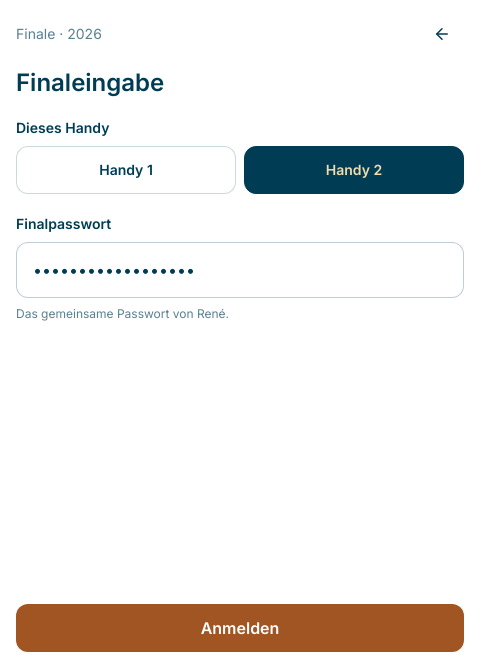
Test case: mobile final result flow › uses class and participant rows, confirms identity, and returns to the same class after saving
Earlier steps of the test are not shown.
Click the button "Anmelden" at (240, 628), box [16,604,464,652]
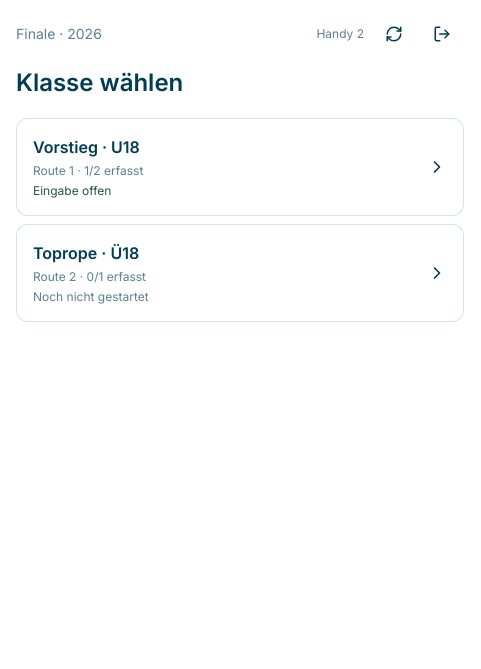
Expected: the heading "Klasse wählen" is shown, [16,68,183,97]
Click the button "Vorstieg · U18 Route 1 · 1/2 erfasst Eingabe offen" at (86, 147), box [16,118,464,216]
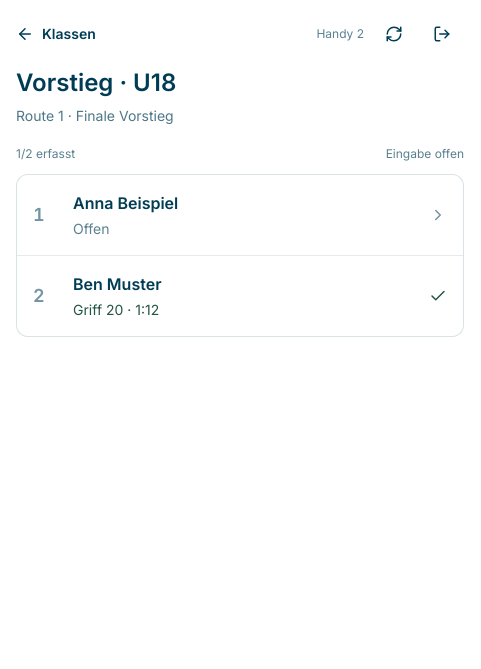
Click the button with aria-label "1. Anna Beispiel" at (126, 203), box [17,175,463,256]
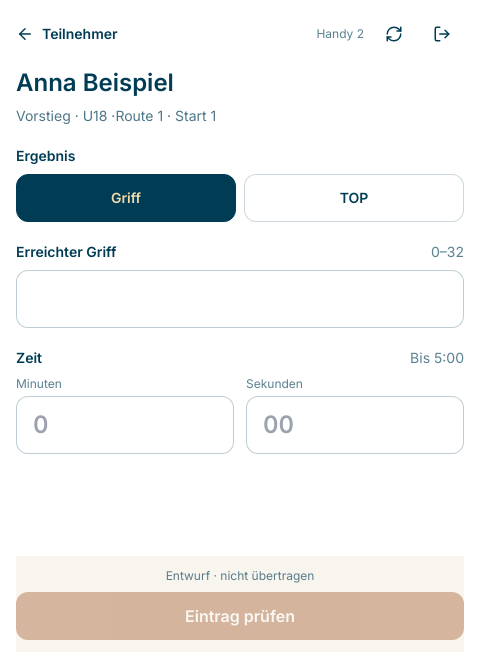
Expected: the field labelled "Minuten" is shown, [16,396,234,454]
Type "24" into the field labelled "Erreichter Griff" at (240, 299), box [16,270,464,328]
Type "3" into the field labelled "Minuten" at (125, 425), box [16,396,234,454]
Type "12" into the field labelled "Sekunden" at (355, 425), box [246,396,464,454]
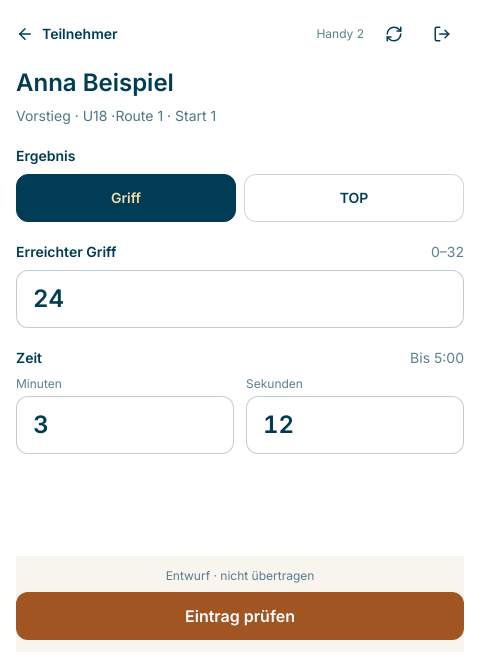
Click the button "Eintrag prüfen" at (240, 616), box [16,592,464,640]
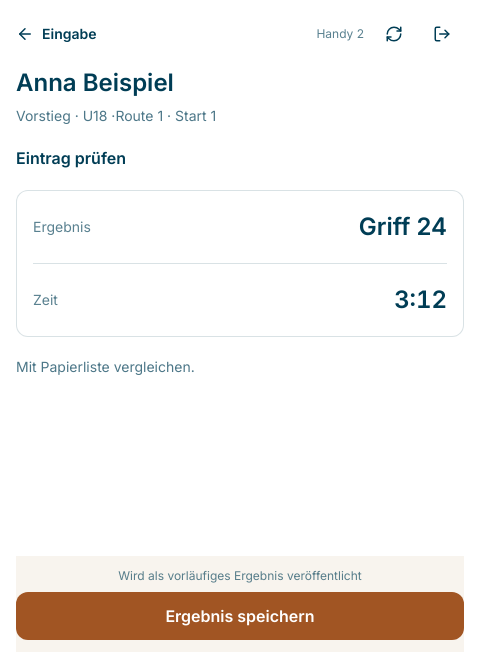
Expected: the heading "Anna Beispiel" is shown, [16,68,174,97]
Expected: the text "Griff 24" is shown, [359,211,447,243]
Expected: the text "3:12" is shown, [394,284,447,316]
Click the button "Ergebnis speichern" at (240, 616), box [16,592,464,640]
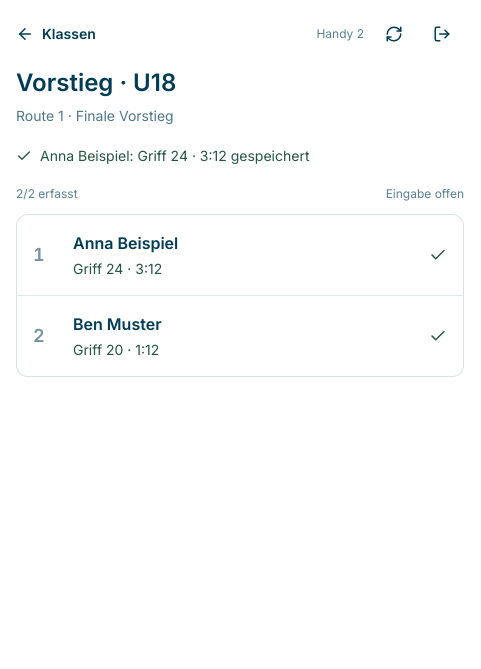
Expected: the heading "Vorstieg · U18" is shown, [16,68,176,97]
Expected: the button with aria-label "1. Anna Beispiel, Griff 24 · 3:12" is shown, [17,215,463,296]
